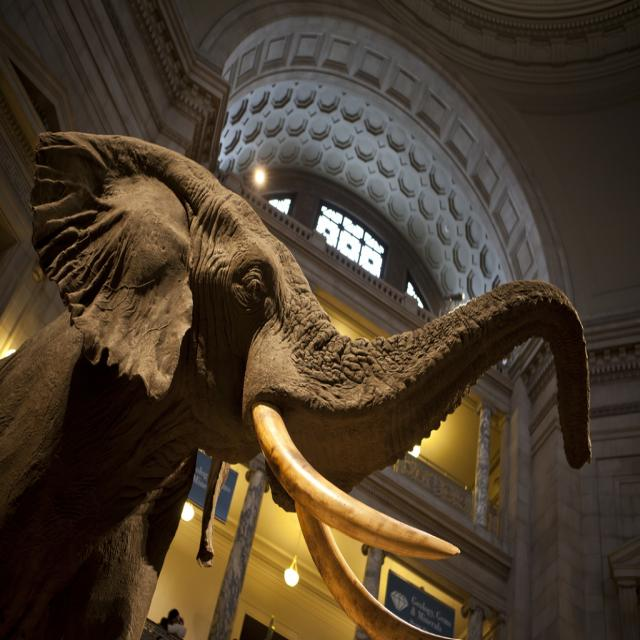Elephant: (0, 131, 591, 640)
